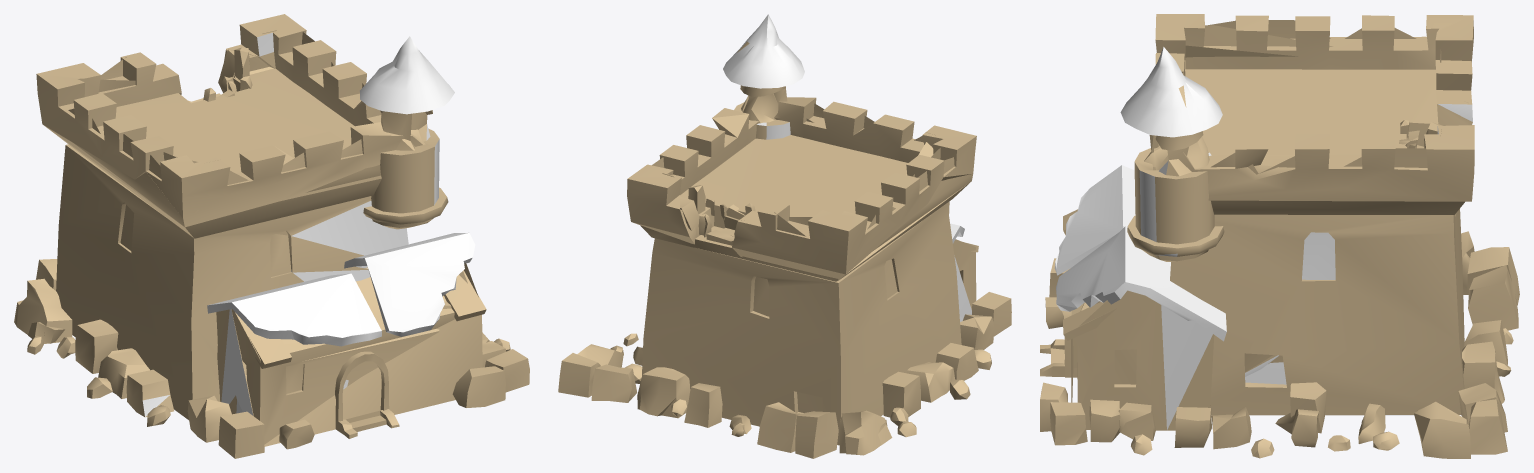
Rendered from castle_d2.3.glb.
3 views of the same model, side by side, from view 1: azimuth 30°, elevation 25°; view 2: azimuth 150°, elevation 25°; view 3: azimuth 270°, elevation 25° (orthographic). The views are drawn at different scales.
Visible parts, largest first — view 1: castle; view 2: castle; view 3: castle.
Boxes of the visible parts, bbox=[...] form: castle: bbox=[14, 14, 529, 458]; castle: bbox=[558, 14, 1011, 458]; castle: bbox=[1040, 14, 1519, 458].
Size of the model in its own units: 2.82 by 2.46 by 2.9.
